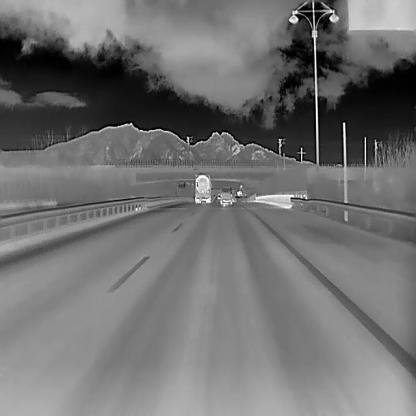car: (193, 172, 211, 203), (221, 185, 231, 205), (216, 191, 221, 198)
